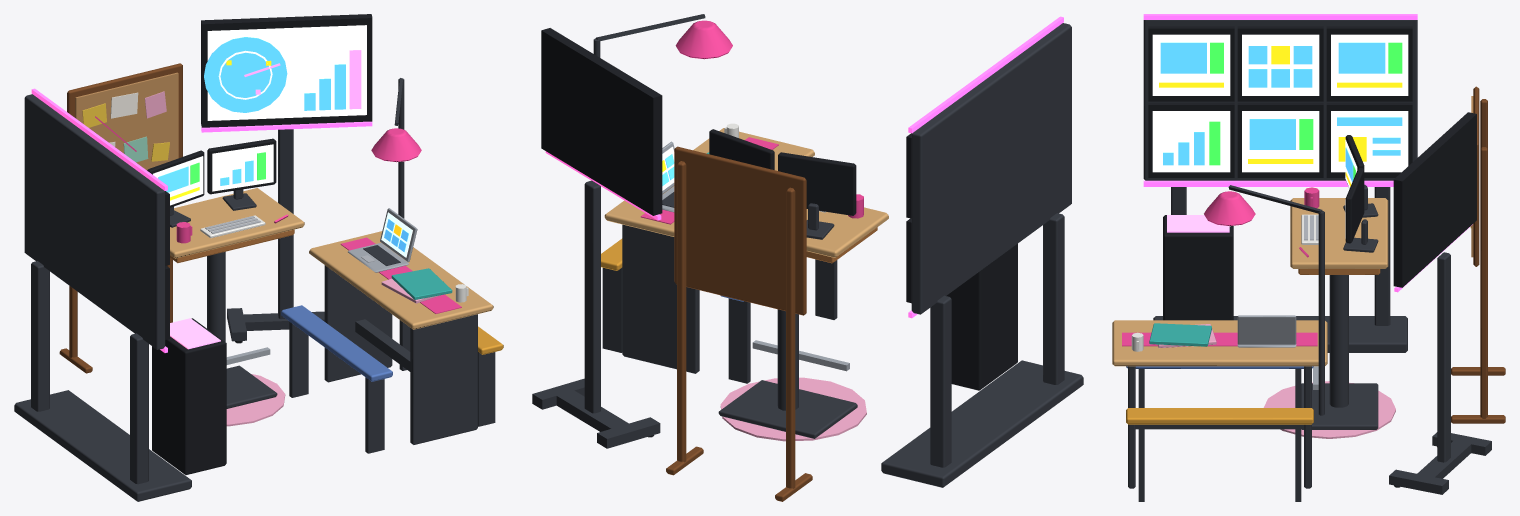
File: station_intake_3.glb
3 views of the same model, side by side, from view 1: azimuth 30°, elevation 25°; view 2: azimuth 150°, elevation 25°; view 3: azimuth 270°, elevation 25° (orthographic). The views are drawn at different scales.
Visible parts, largest first — view 1: station_intake_3; view 2: station_intake_3; view 3: station_intake_3.
Part boxes in pixels (x1,y1,x2,y2): station_intake_3: (14,14,503,501); station_intake_3: (532,14,1083,501); station_intake_3: (1112,14,1505,501).
Size of the model in its own units: 2.16 by 1.82 by 2.01.
